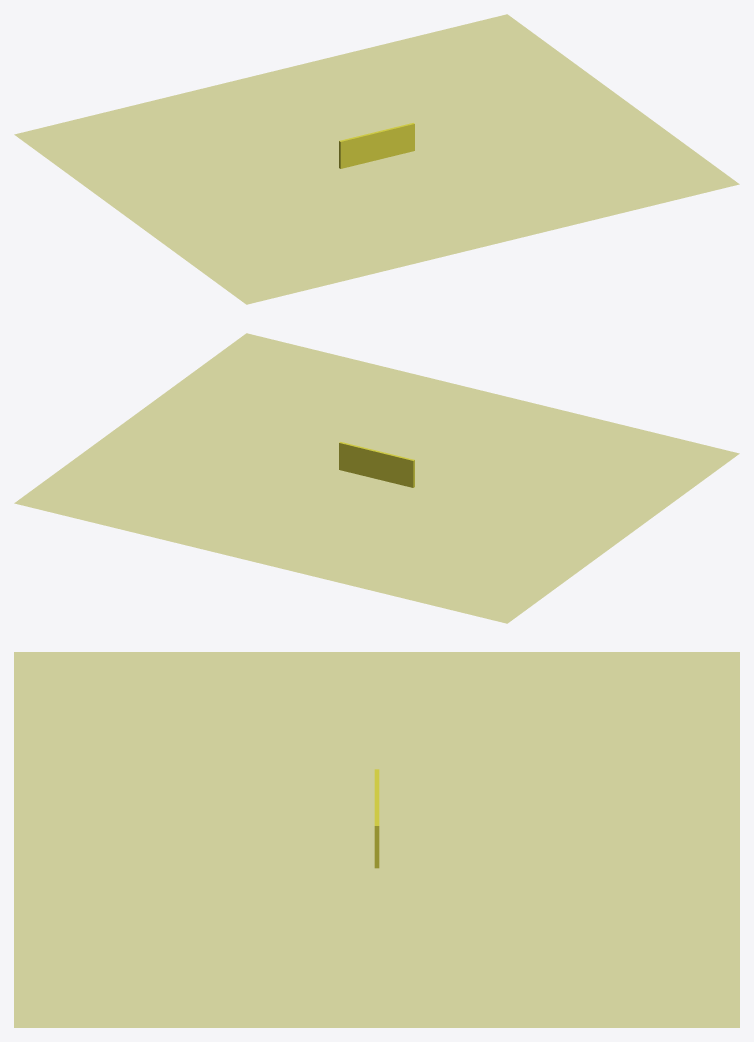
The picture shows the model from 3 angles, top to bottom: view 1: azimuth 30°, elevation 25°; view 2: azimuth 150°, elevation 25°; view 3: azimuth 270°, elevation 25°; orthographic projection. The views are drawn at different scales.
Visible parts, largest first — view 1: Plane; view 2: Plane; view 3: Plane.
Boxes of the visible parts, x1,y1,x2,y2 form: Plane: (14,14,739,304); Plane: (14,333,739,623); Plane: (14,652,739,1027).
Bounding box in the file's own units: 42.17 × 2.43 × 34.43.
